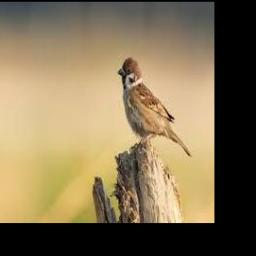Sparrow: (118, 57, 192, 157)
